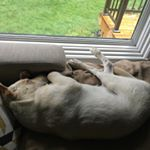puppy: (1, 69, 150, 137)
